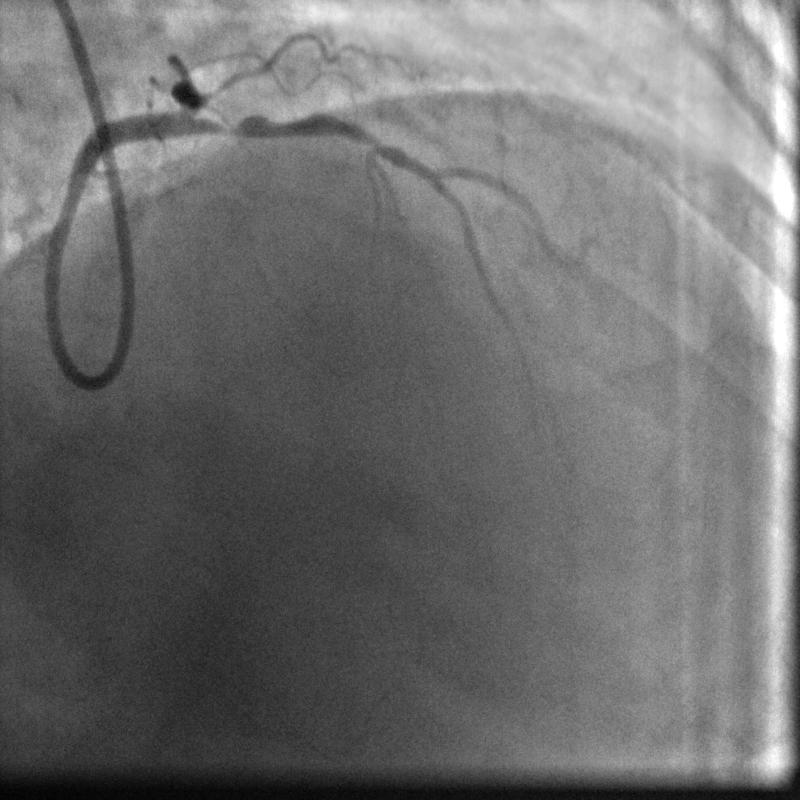Stenosis: (215, 108, 303, 138)
